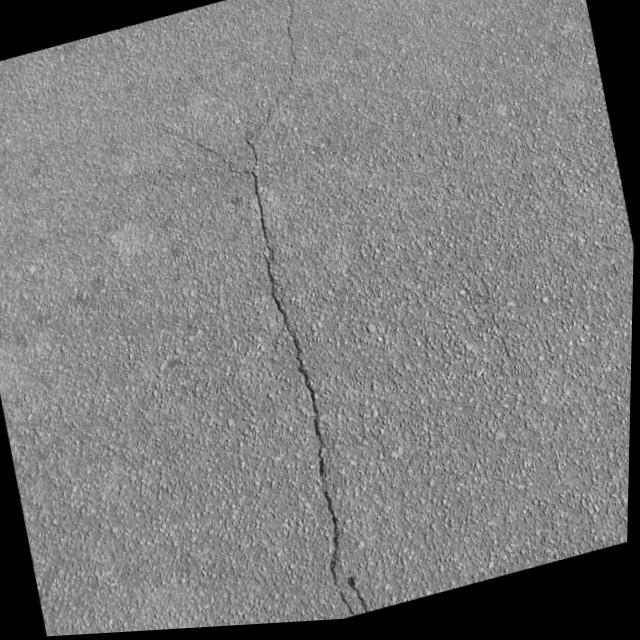Crack: (193, 0, 431, 630)
